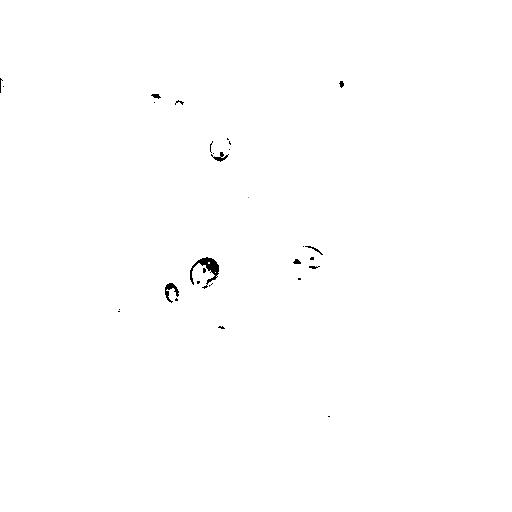micro-algae: (78, 32, 128, 86), (322, 64, 355, 100), (190, 256, 221, 289), (279, 261, 312, 291), (294, 243, 324, 270), (116, 293, 142, 324), (247, 172, 272, 201), (49, 238, 79, 260), (211, 135, 231, 163), (164, 281, 179, 303), (239, 193, 257, 205), (175, 99, 184, 110), (1, 75, 6, 94)
